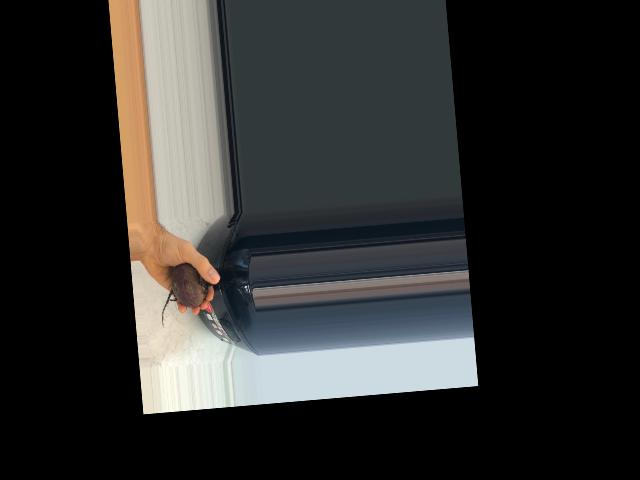beet: (157, 261, 215, 327)
